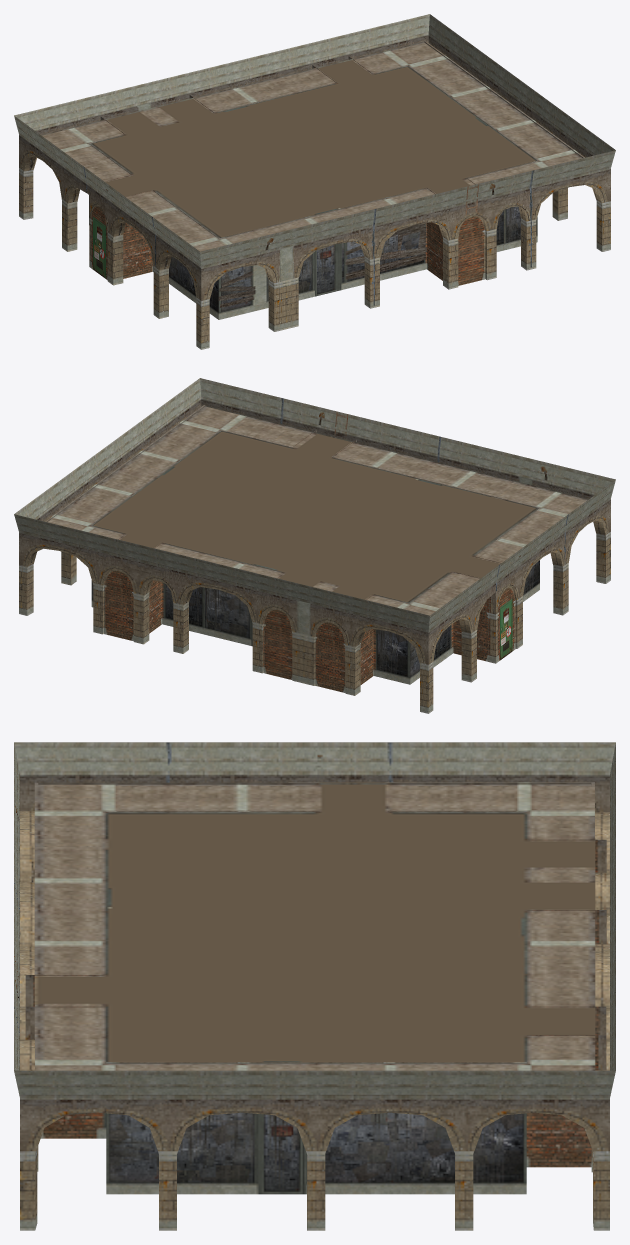
File: Build7_el1_LOD1.fbx
The picture shows the model from 3 angles, top to bottom: view 1: azimuth 30°, elevation 25°; view 2: azimuth 150°, elevation 25°; view 3: azimuth 270°, elevation 25°; orthographic projection. The views are drawn at different scales.
Parts seen in each view (by area): view 1: polySurface358; view 2: polySurface358; view 3: polySurface358.
Part boxes in pixels (x1,y1,x2,y2): polySurface358: [14, 14, 615, 349]; polySurface358: [14, 378, 615, 713]; polySurface358: [14, 742, 615, 1230].
Bounding box in the file's own units: 16.76 × 3.88 × 12.98.
